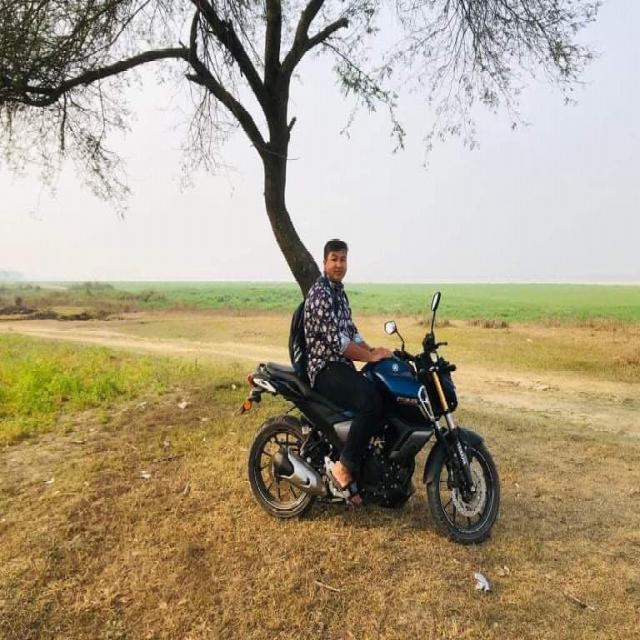No helmet: (318, 239, 359, 282)
